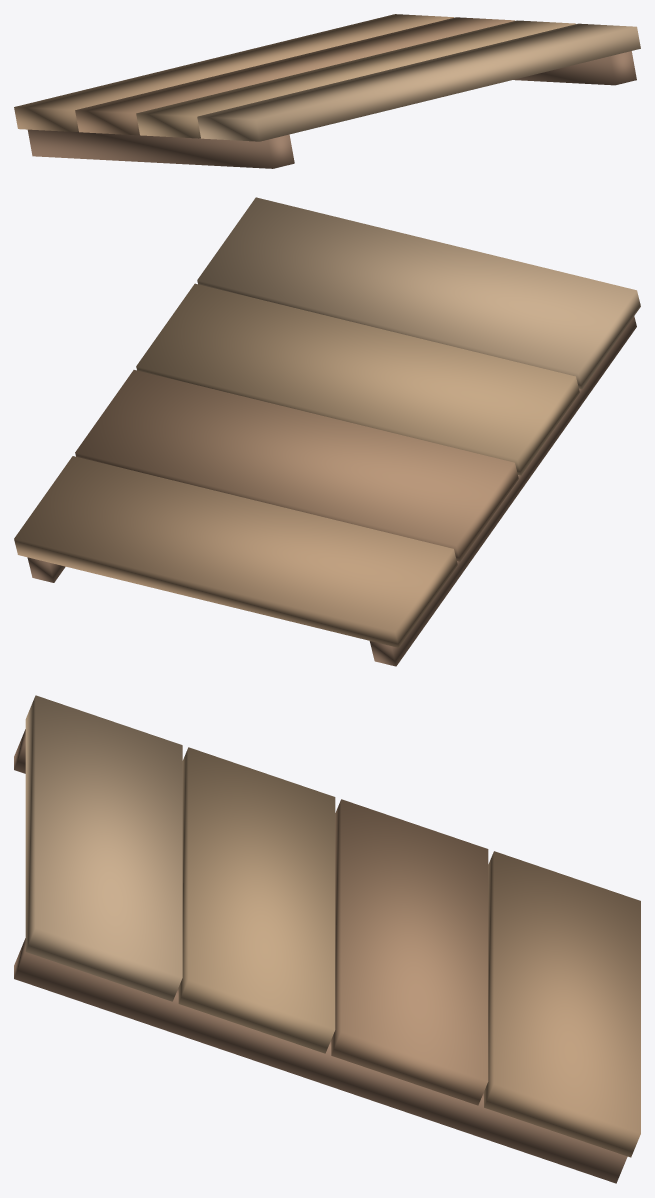
3 renders of one model, top to bottom at view 1: azimuth 30°, elevation 25°; view 2: azimuth 150°, elevation 25°; view 3: azimuth 270°, elevation 25°, orthographic. The views are drawn at different scales.
Visible parts, largest first — view 1: world; view 2: world; view 3: world.
Part boxes in pixels (<box>): world: <box>14,14,640,168</box>; world: <box>14,197,640,666</box>; world: <box>14,695,640,1183</box>.
Size of the model in its own units: 1.76 by 0.9203 by 2.
